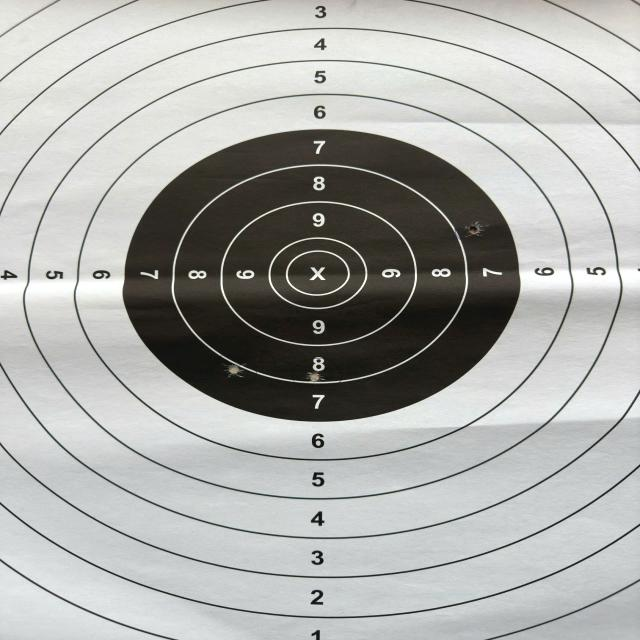bullet: (468, 224, 480, 236), (229, 364, 240, 376), (309, 373, 320, 382)
